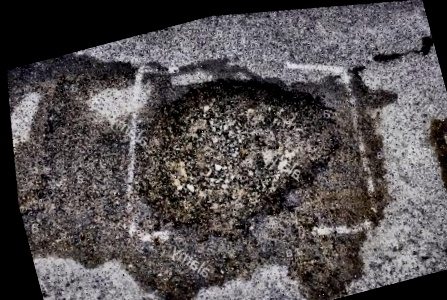pothole: (98, 28, 380, 282)
